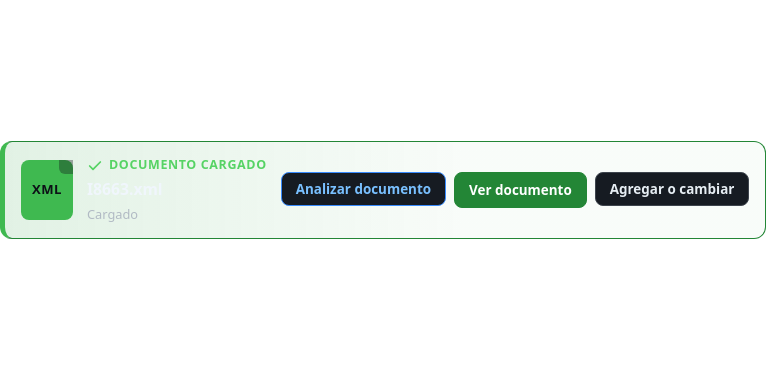
Test case: Analizar documento › dice qué no coincide
Click the button "Analizar documento" at (363,189), box [281,172,446,206]
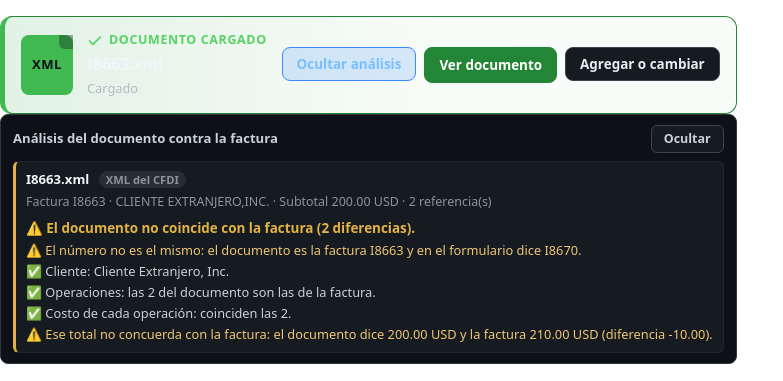
Check: the text "⚠️ El documento no coincide con la factura (2 diferencias)." is shown, box [26,219,415,237]
Check: the list item "El número no es el mismo" is shown, box [45,241,582,259]
Check: the list item "Ese total no concuerda con la factura" is shown, box [45,325,713,343]
